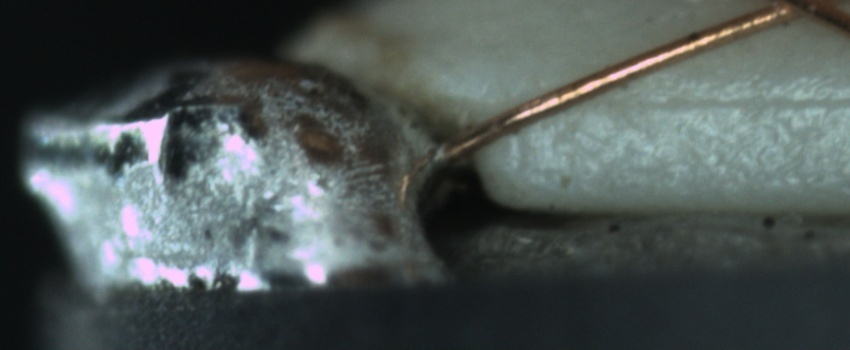CL: (744, 0, 834, 30)
DL: (606, 70, 846, 136)
